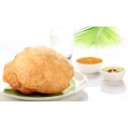poori: (15, 46, 74, 91), (3, 59, 38, 93)
